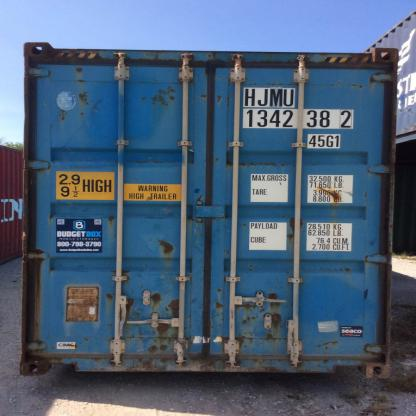Damage: (234, 290, 296, 372), (141, 289, 187, 370), (88, 335, 138, 371), (223, 146, 290, 172), (101, 269, 138, 315), (70, 64, 98, 122), (313, 73, 394, 93), (312, 174, 354, 207), (312, 331, 344, 374), (138, 78, 182, 108), (244, 54, 325, 70), (209, 327, 235, 375), (242, 76, 311, 94), (28, 44, 104, 60), (118, 151, 184, 168), (188, 78, 229, 102), (210, 281, 232, 323), (150, 230, 178, 260), (283, 216, 308, 244), (319, 262, 357, 278), (360, 339, 386, 361), (130, 48, 172, 61), (201, 50, 228, 65), (99, 208, 119, 228), (356, 284, 373, 306), (360, 176, 372, 207), (54, 104, 70, 125), (45, 202, 60, 223), (363, 235, 379, 247)
